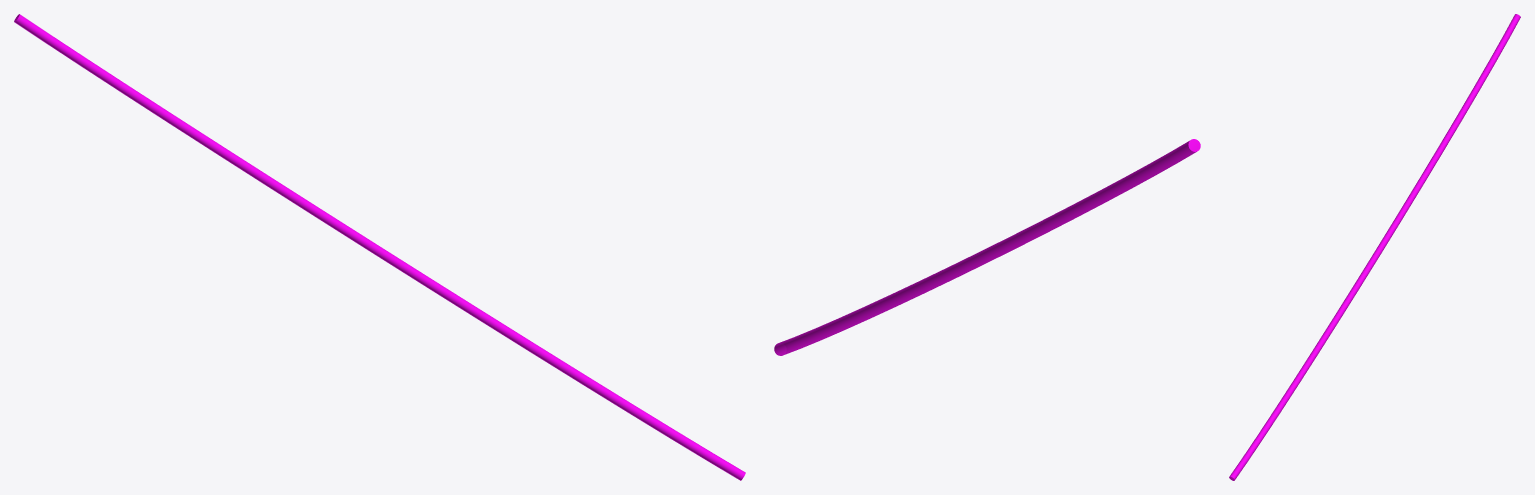
Rendered from Event_127732675_electron_0.fbx.
The picture shows the model from 3 angles, left to right: view 1: azimuth 30°, elevation 25°; view 2: azimuth 150°, elevation 25°; view 3: azimuth 270°, elevation 25°; orthographic projection. The views are drawn at different scales.
Parts seen in each view (by area): view 1: Model; view 2: Model; view 3: Model.
Boxes of the visible parts, x1=… form: Model: x1=14, y1=14, x2=745, y2=480; Model: x1=774, y1=139, x2=1200, y2=355; Model: x1=1229, y1=14, x2=1520, y2=480.
Bounding box in the file's own units: 2.46 × 1.97 × 1.76.
